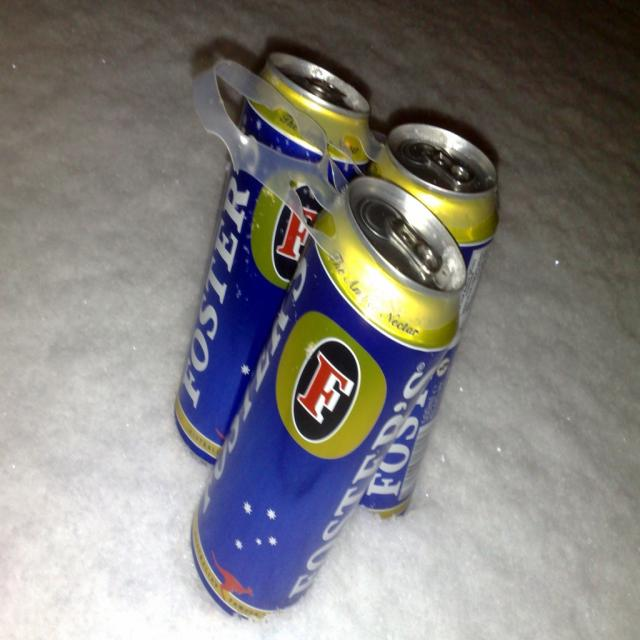fosters: (273, 309, 389, 464), (252, 171, 332, 290)
